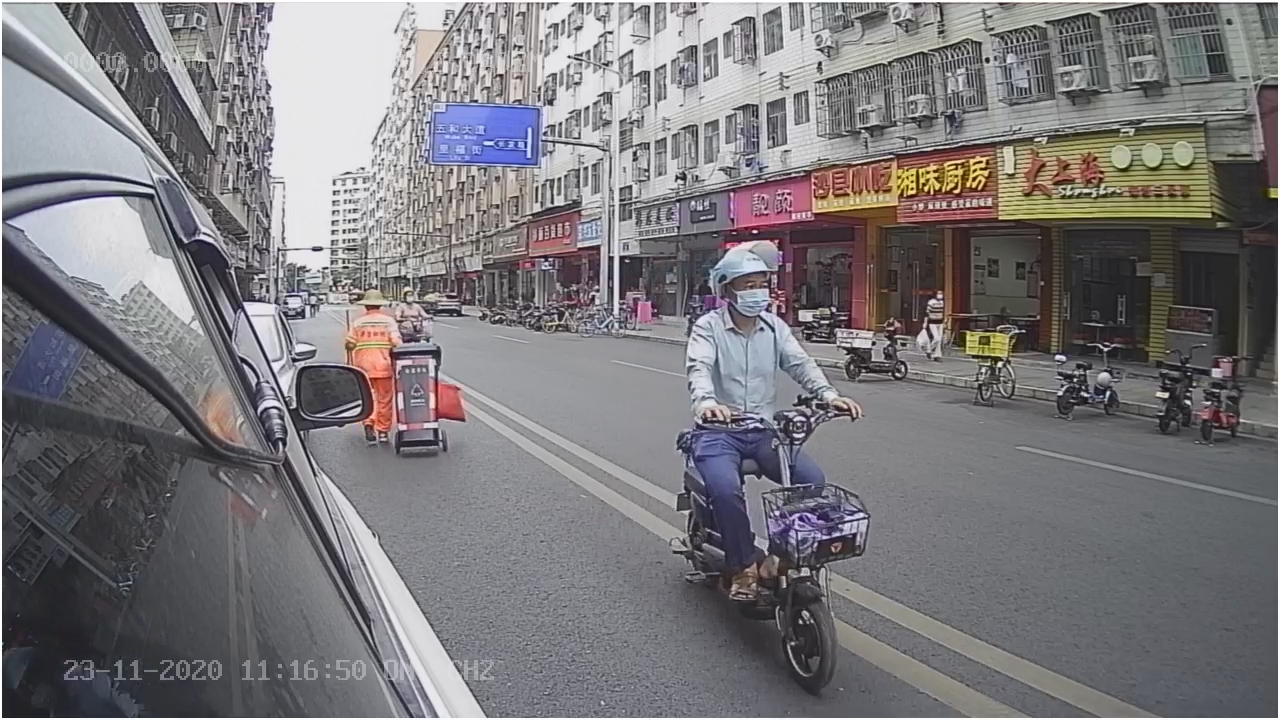person: (676, 236, 862, 420)
